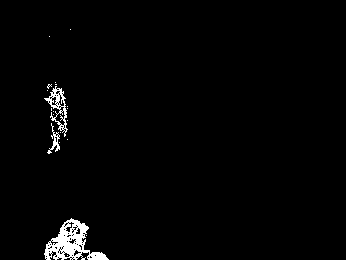person: (47, 82, 67, 153)
